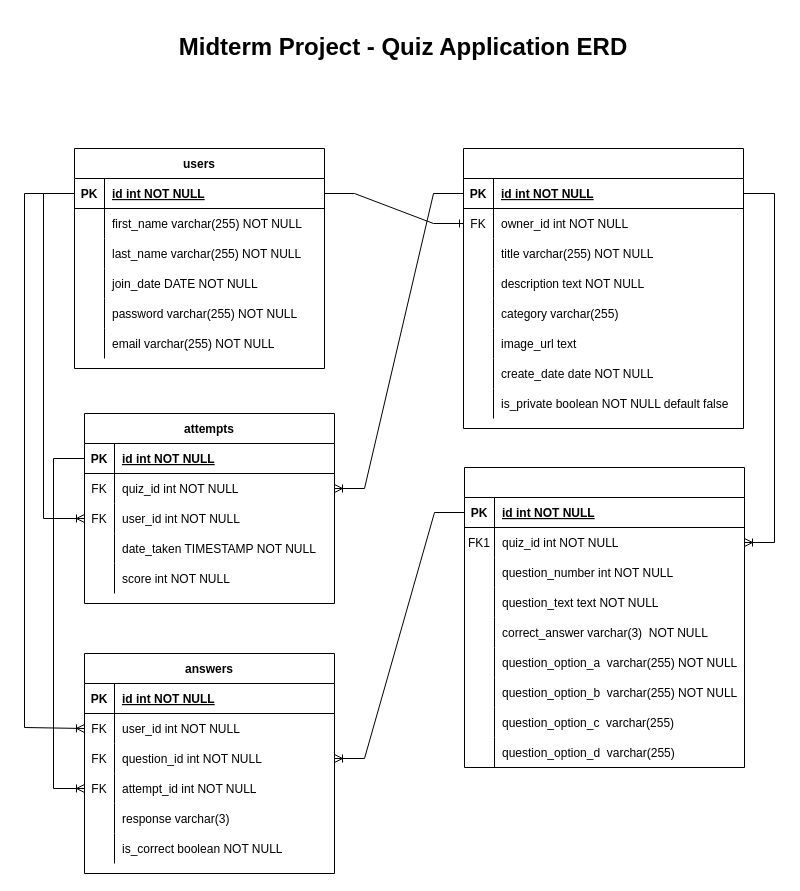
Image size: 800x891. Some labels were removed from this diagram. Here are the shapes that lost their labels. From the top down, the box of each, then its label:
(462, 148, 744, 428): quizzes
(464, 466, 744, 768): questions
